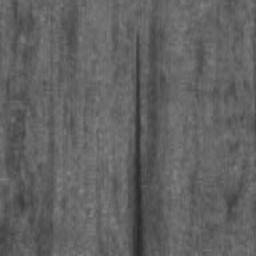Scratches: (133, 33, 144, 256)
